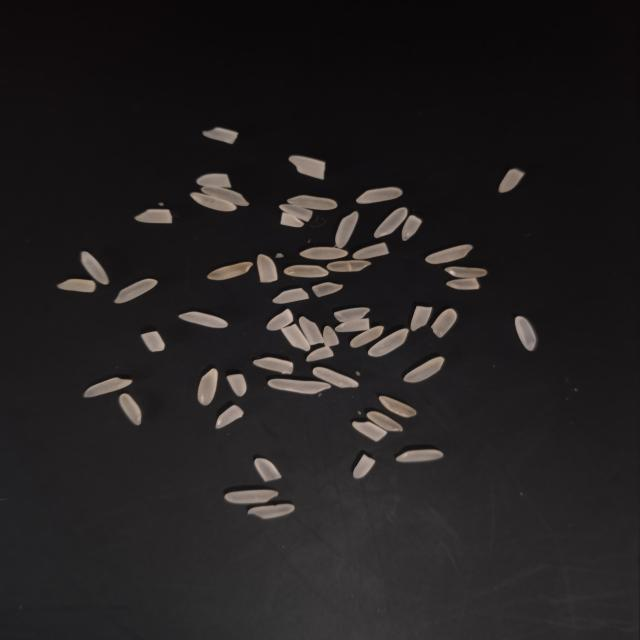Broken: (288, 156, 326, 182), (352, 419, 386, 442), (430, 308, 456, 338), (254, 356, 294, 374), (200, 128, 238, 146), (255, 458, 282, 482), (278, 208, 308, 228), (256, 255, 276, 284), (411, 306, 433, 332), (138, 331, 164, 353), (135, 208, 173, 223), (353, 454, 375, 479), (227, 374, 247, 396)
Full: (367, 328, 408, 358), (373, 206, 409, 238), (112, 278, 156, 304), (196, 185, 250, 206), (404, 356, 446, 382), (84, 378, 134, 398), (314, 368, 359, 390), (189, 190, 237, 210), (378, 394, 418, 418), (424, 244, 472, 264), (82, 252, 110, 286), (335, 210, 359, 248), (354, 185, 402, 203), (177, 312, 227, 329), (284, 195, 337, 211), (197, 368, 219, 406), (206, 264, 252, 282), (348, 324, 382, 348), (280, 324, 309, 352), (366, 410, 402, 432), (516, 314, 538, 350), (225, 490, 279, 504), (247, 502, 294, 518), (117, 394, 140, 426), (395, 449, 443, 464), (298, 315, 322, 344), (214, 405, 243, 429), (498, 168, 524, 193), (299, 247, 348, 260), (327, 260, 372, 274), (284, 265, 329, 279), (266, 309, 294, 331), (272, 287, 308, 303), (56, 278, 96, 292), (196, 173, 230, 188), (444, 267, 486, 279), (322, 327, 338, 347)
